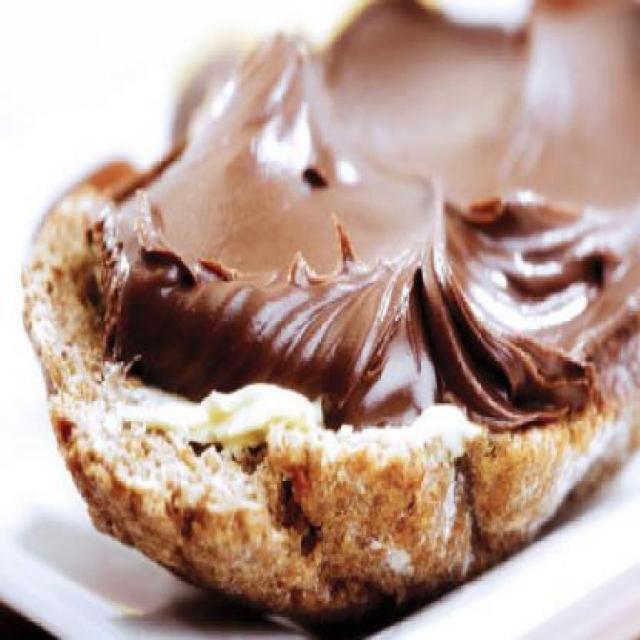Spread: (93, 4, 639, 432)
